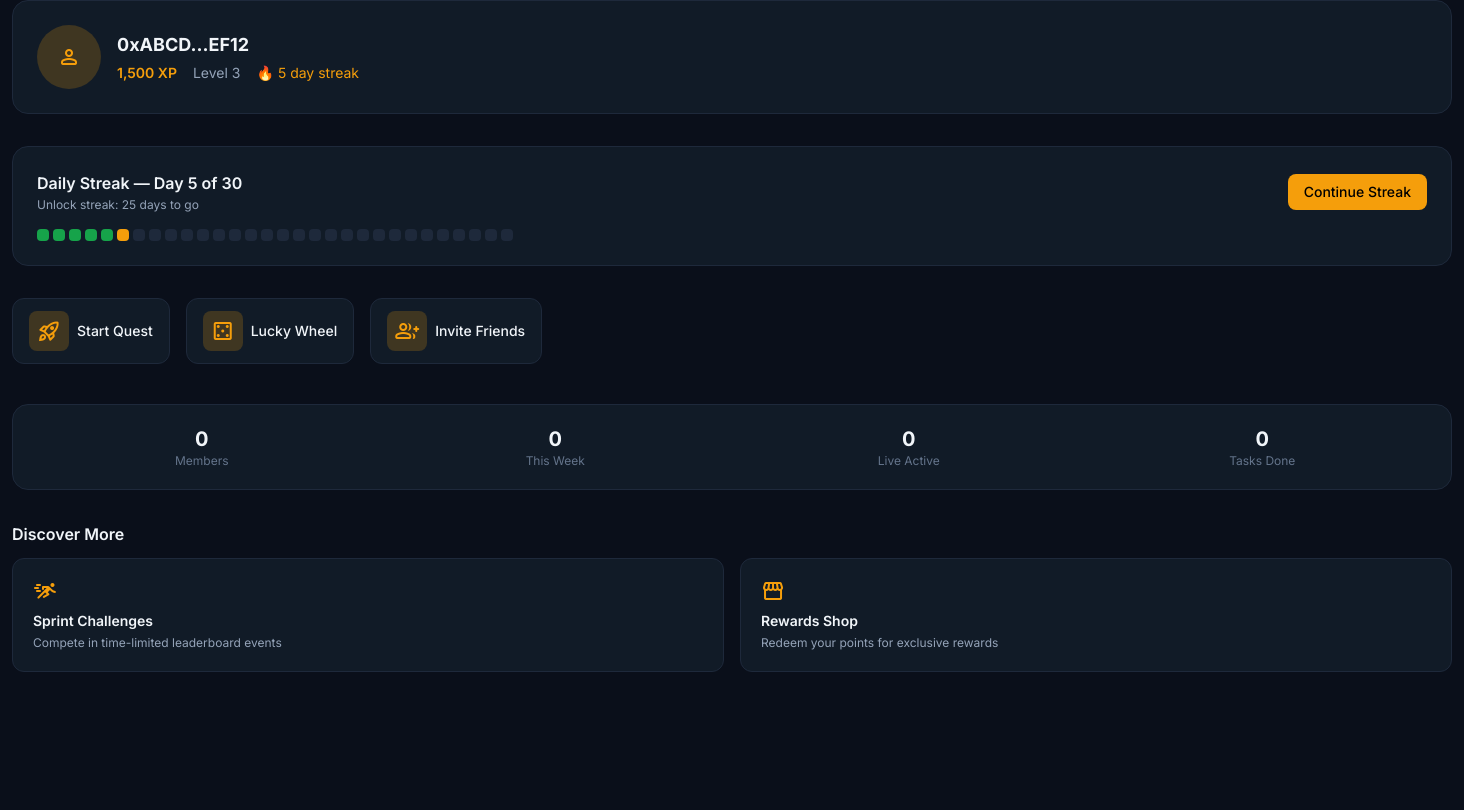
Test: C01Home › handles check-in click
The image size is (1464, 810).
Click the button "Continue Streak": (1357, 192) x1=1288 y1=174 x2=1427 y2=210
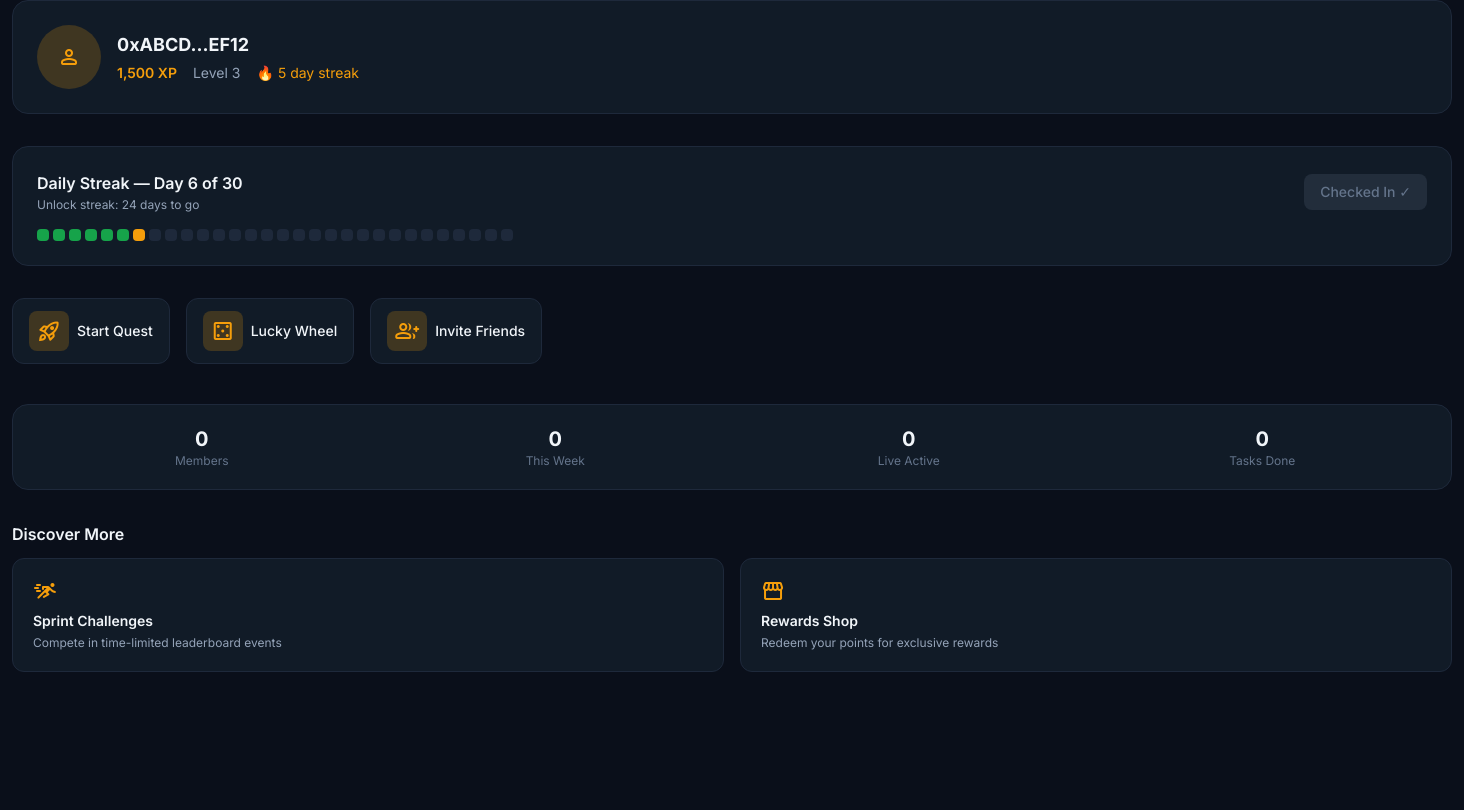
Check: the text "Checked In" is shown, box x1=1304 y1=174 x2=1427 y2=210
